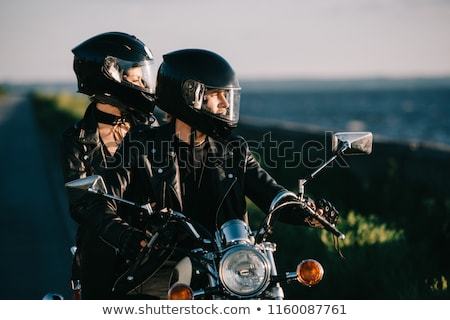with_helmet: (156, 47, 244, 143), (68, 31, 158, 113)
